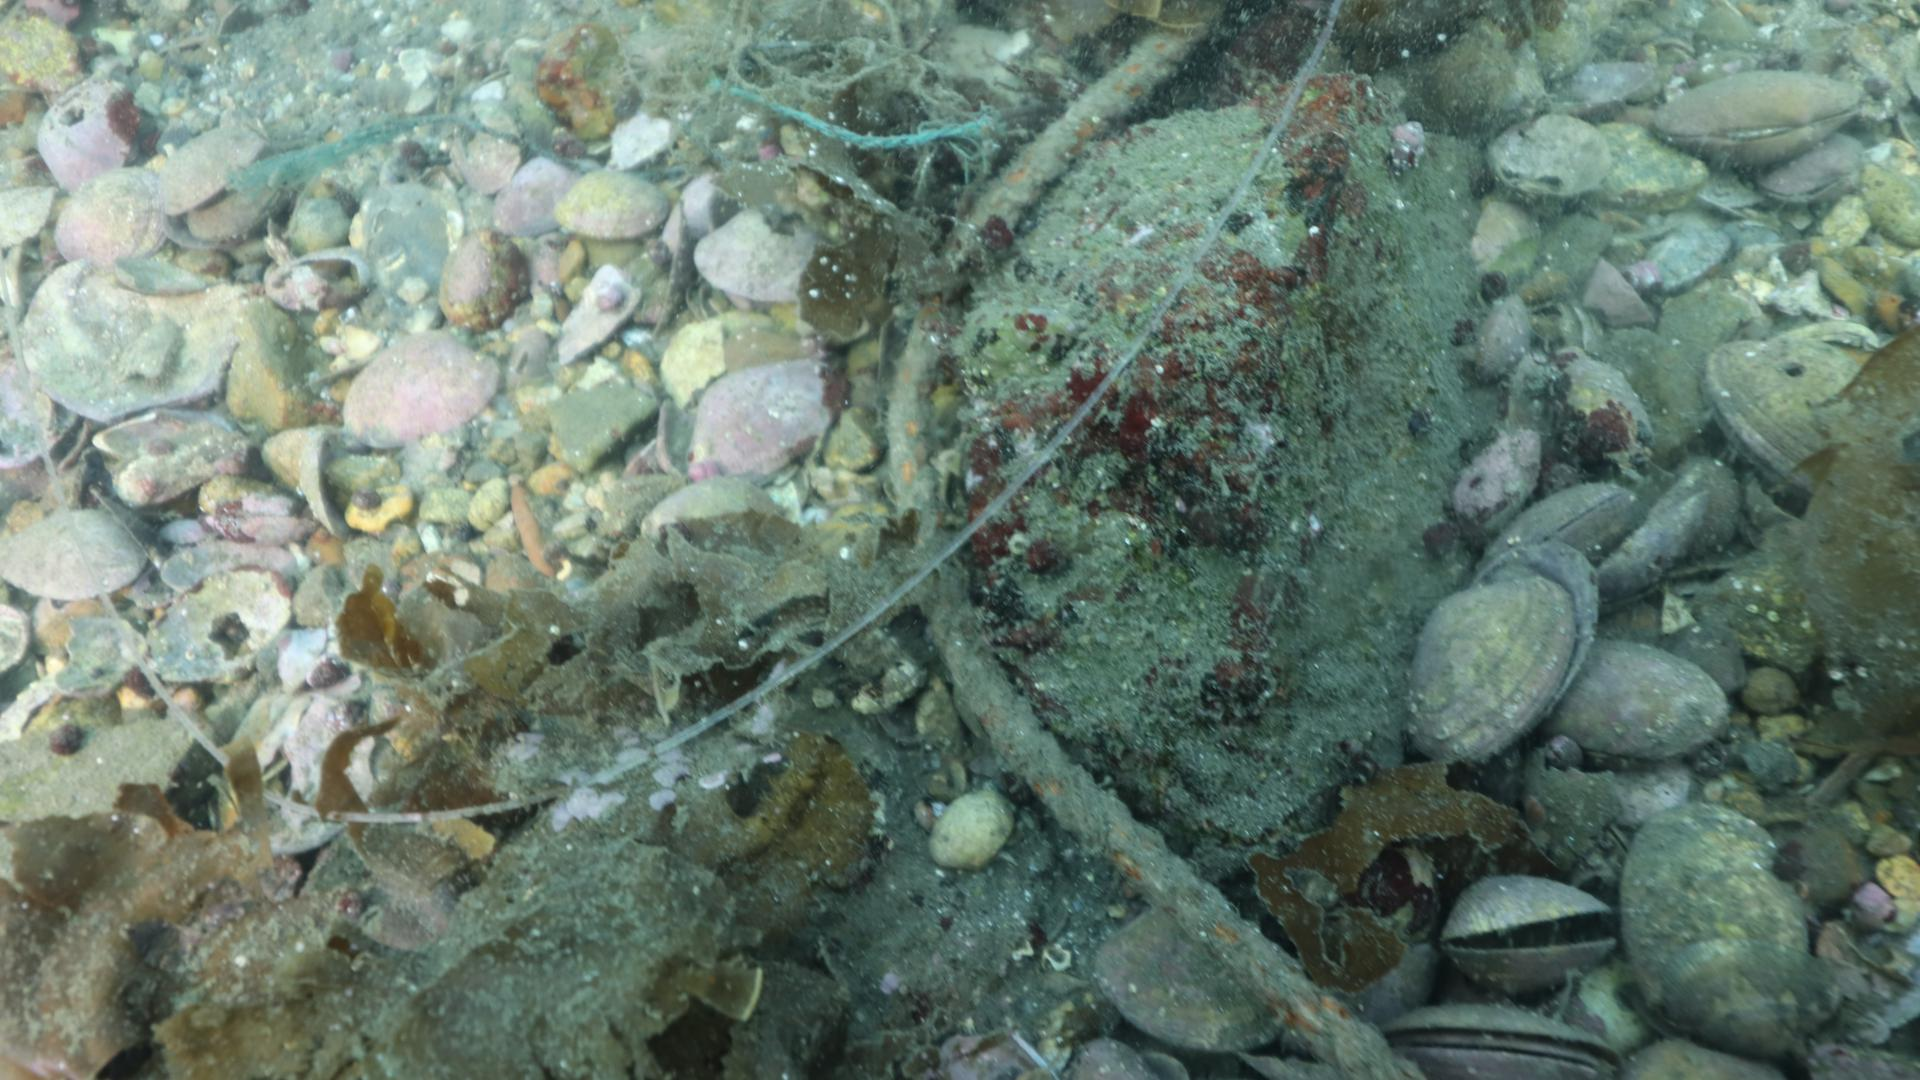rope: (887, 0, 1429, 1080)
